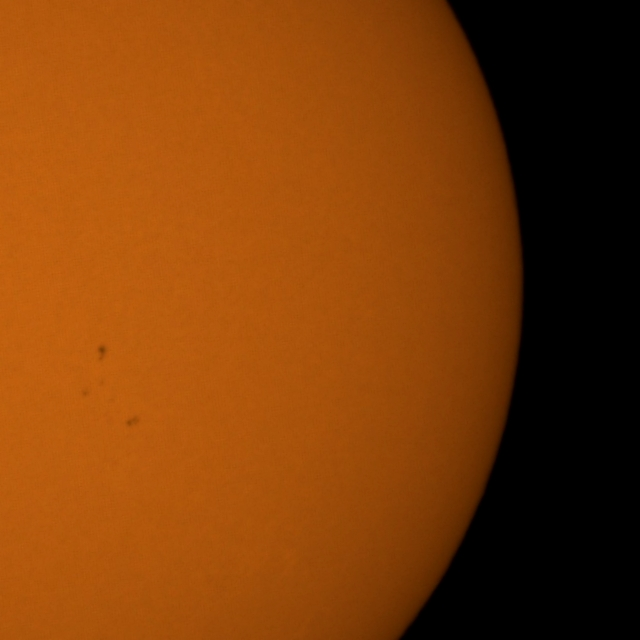sunspot: (124, 414, 142, 430), (96, 343, 109, 363)
